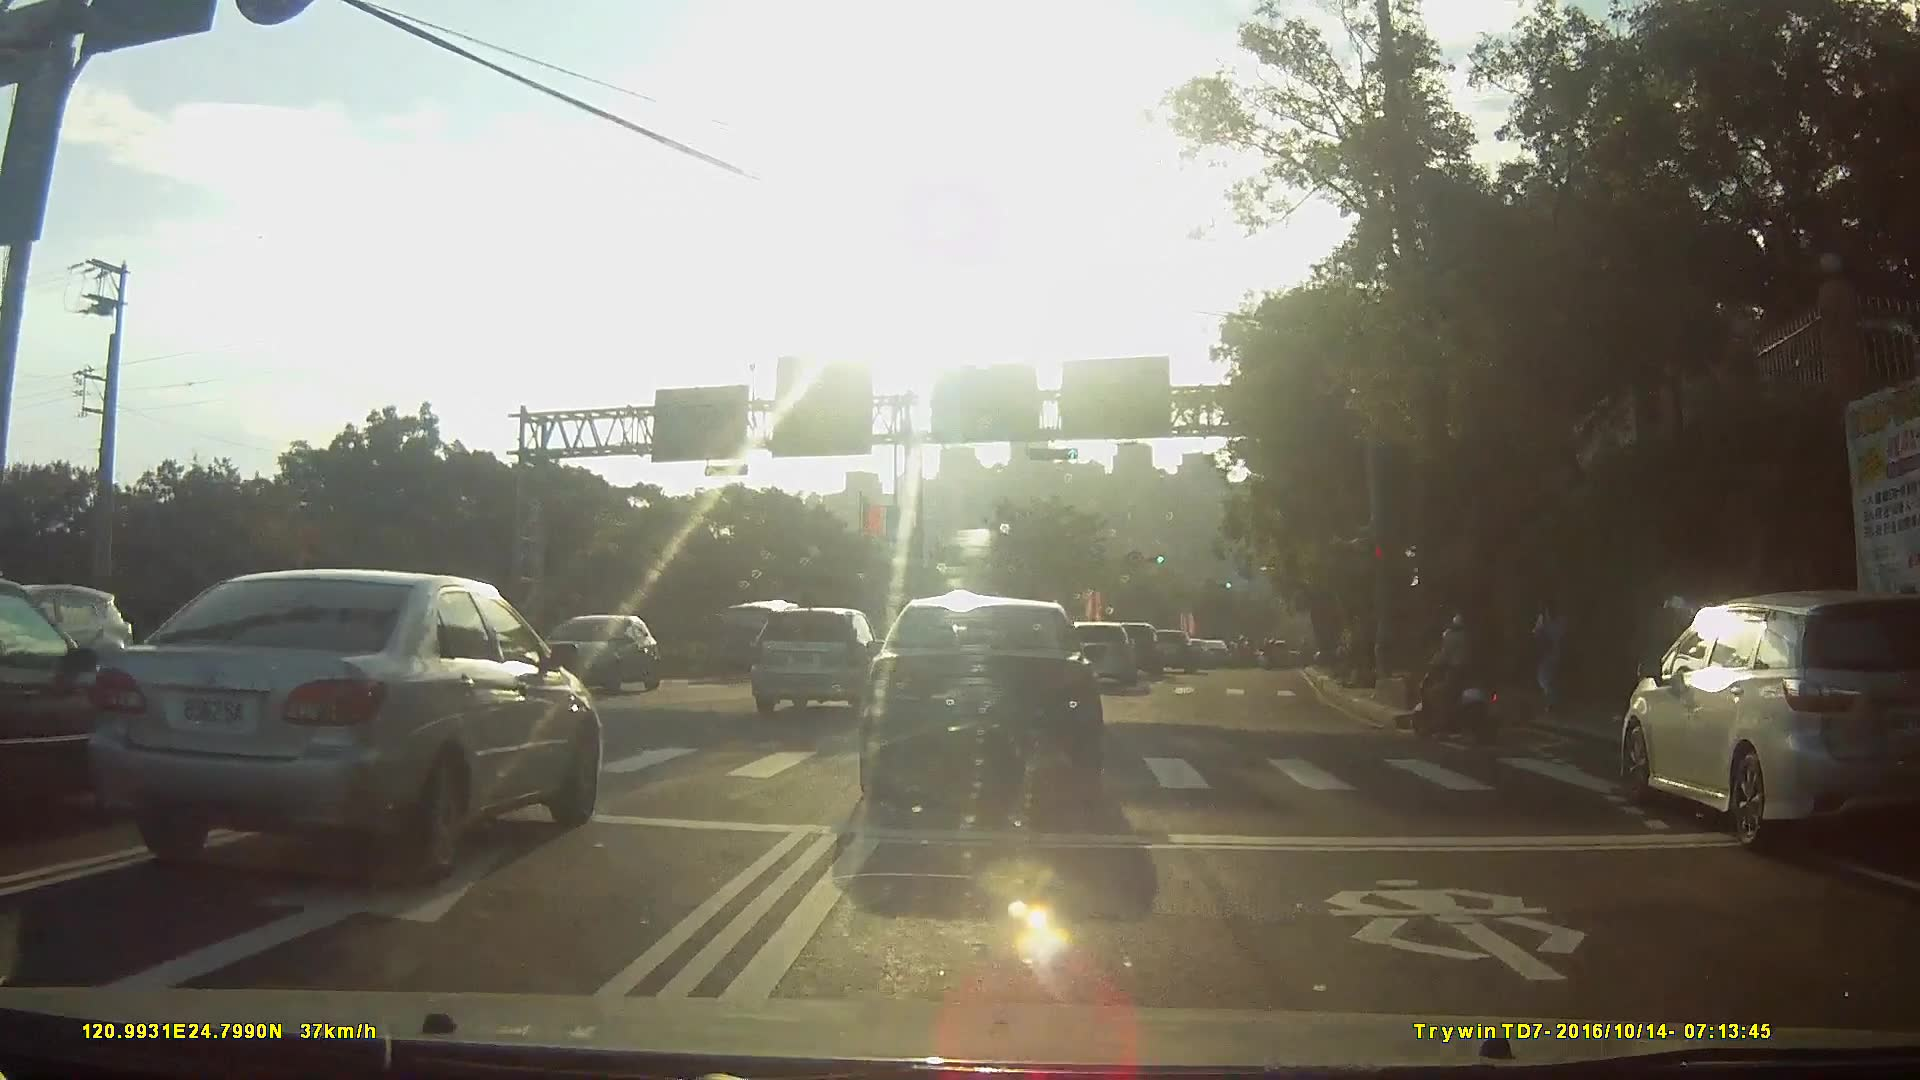pedestrian: (1530, 593, 1576, 720)
rider: (1416, 617, 1521, 754)
vehicle: (86, 569, 616, 879), (1616, 586, 1900, 870), (865, 598, 1118, 815), (1, 591, 154, 822), (758, 604, 900, 713), (529, 613, 681, 706), (709, 596, 809, 684), (1071, 622, 1145, 692), (1112, 621, 1174, 679), (1151, 629, 1207, 673), (1200, 639, 1239, 667)
